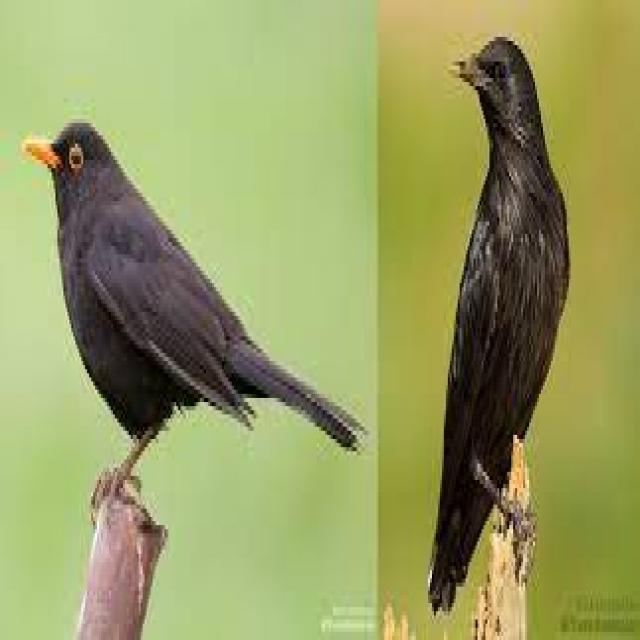bird: (12, 53, 374, 595), (400, 26, 594, 630)
